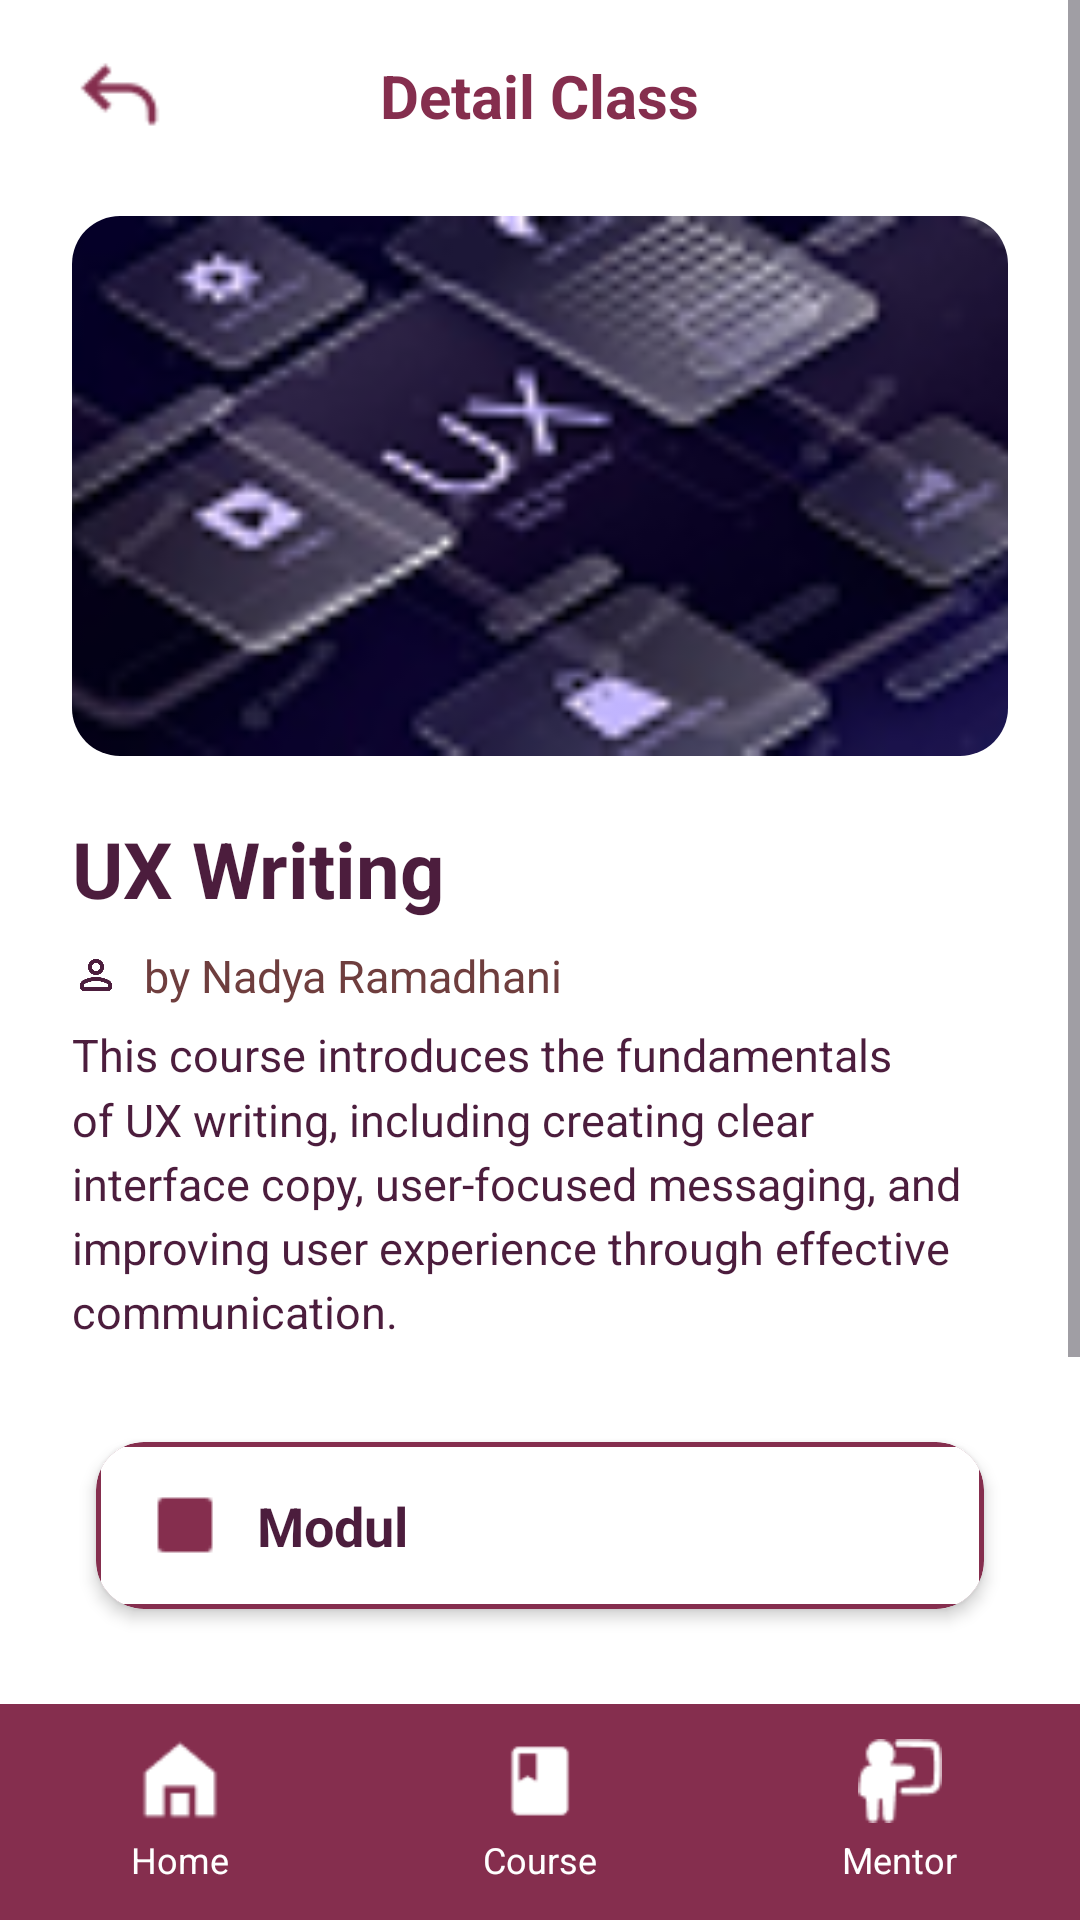

Locate icon controls on the screen. Image size 1080 x 1920, boxes as bbox(x1, y1, x2, y2).
back: bbox(81, 63, 159, 126)
kontak: bbox(80, 959, 112, 991)
